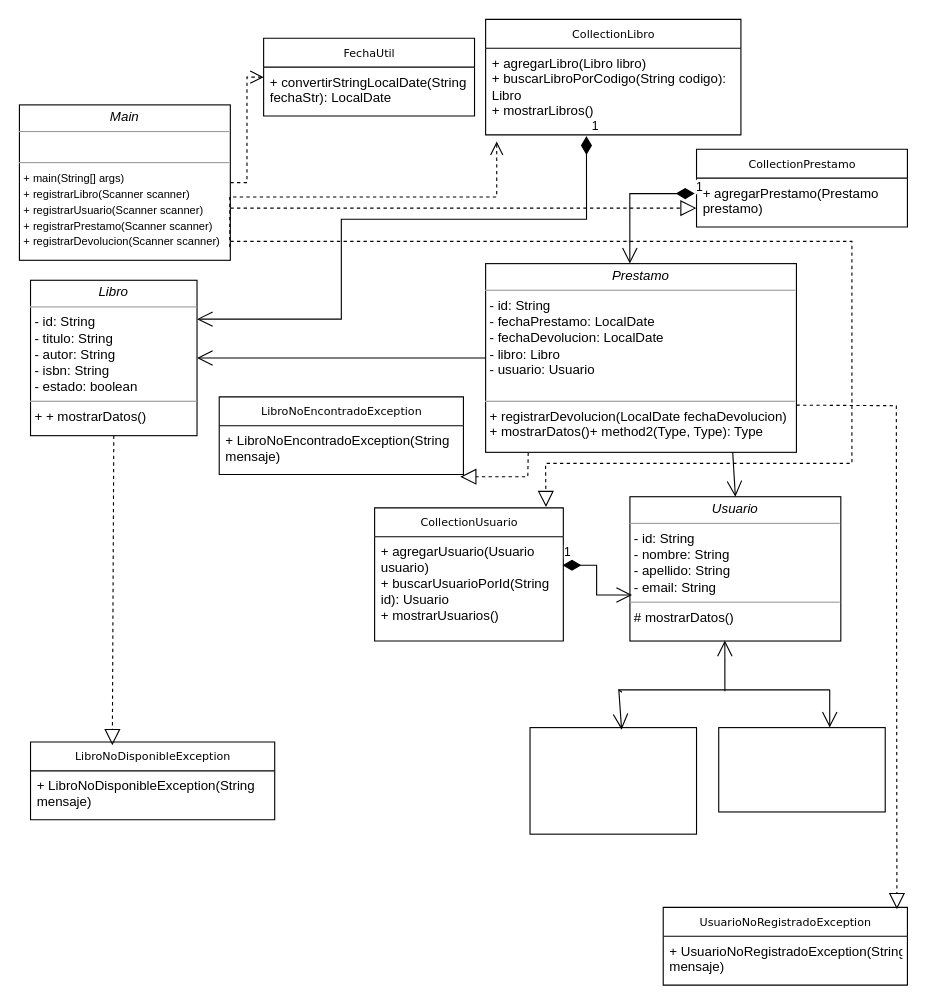
Some shapes in this 932 by 1008 pixel diagram are drawn without their labels. Here are the shapes that lost their labels. From the top down, the centre of each, then its label:
At pixel 613 780: "Alumno - curso: int - numeroLibreta: int + mostrarDatos()".
At pixel 801 769: "Bibliotecario - legajo: int + mostrarDatos()".
